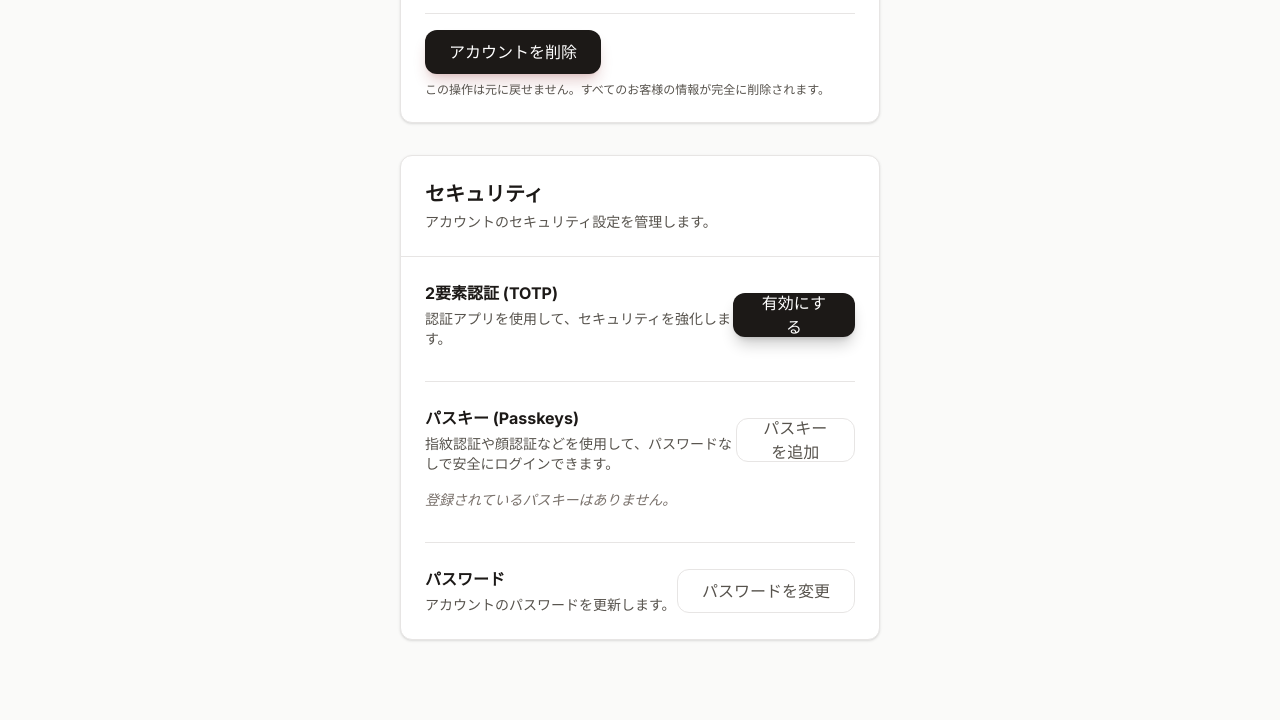
Scenario: MyPage › handles password change
(page scrolled)
Click the button "パスワードを変更": [766, 591] box [677, 569, 855, 613]
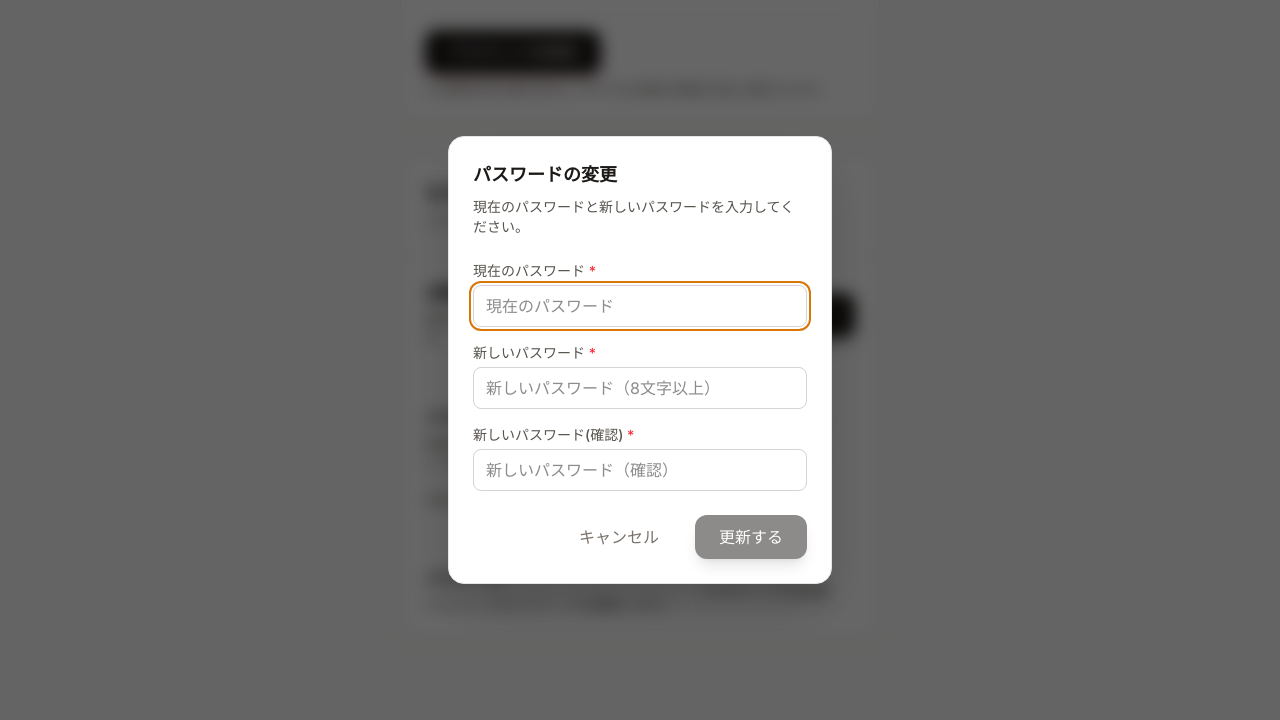
In the password field labelled "現在のパスワード *": [640, 306] box [473, 285, 807, 327], type "old-pass"
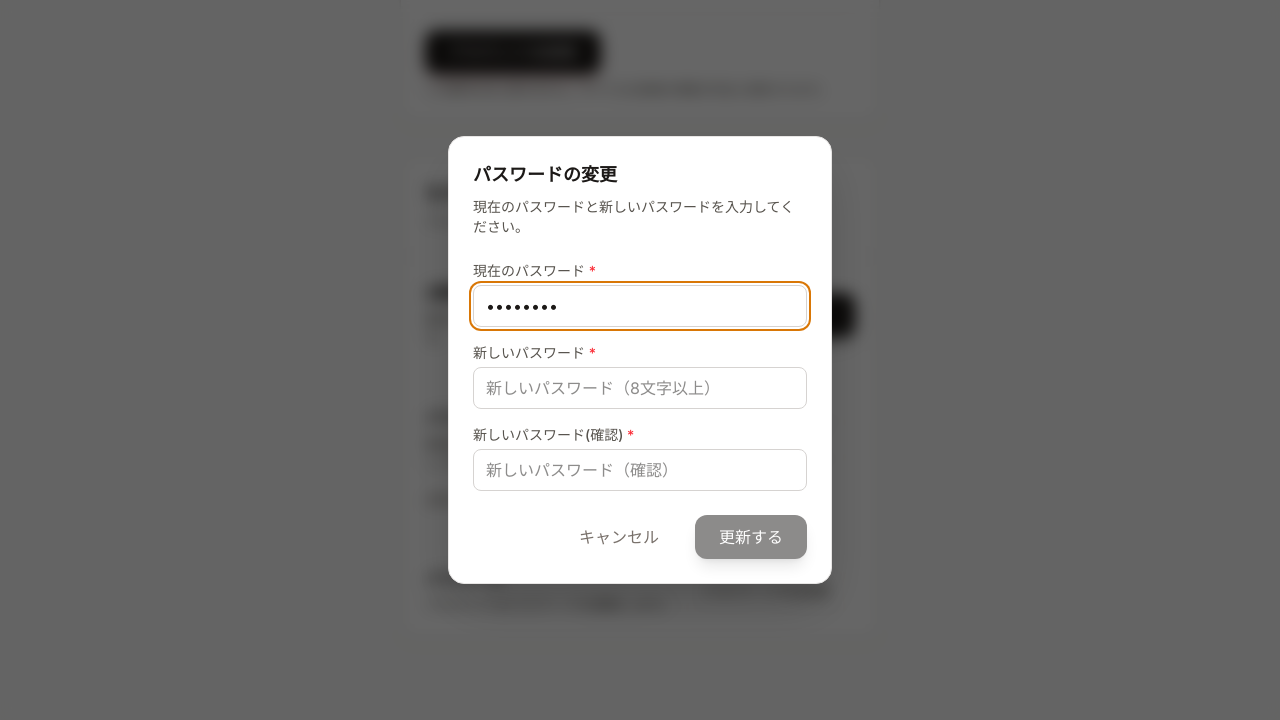
In the password field labelled "新しいパスワード *": [640, 388] box [473, 367, 807, 409], type "new-password"
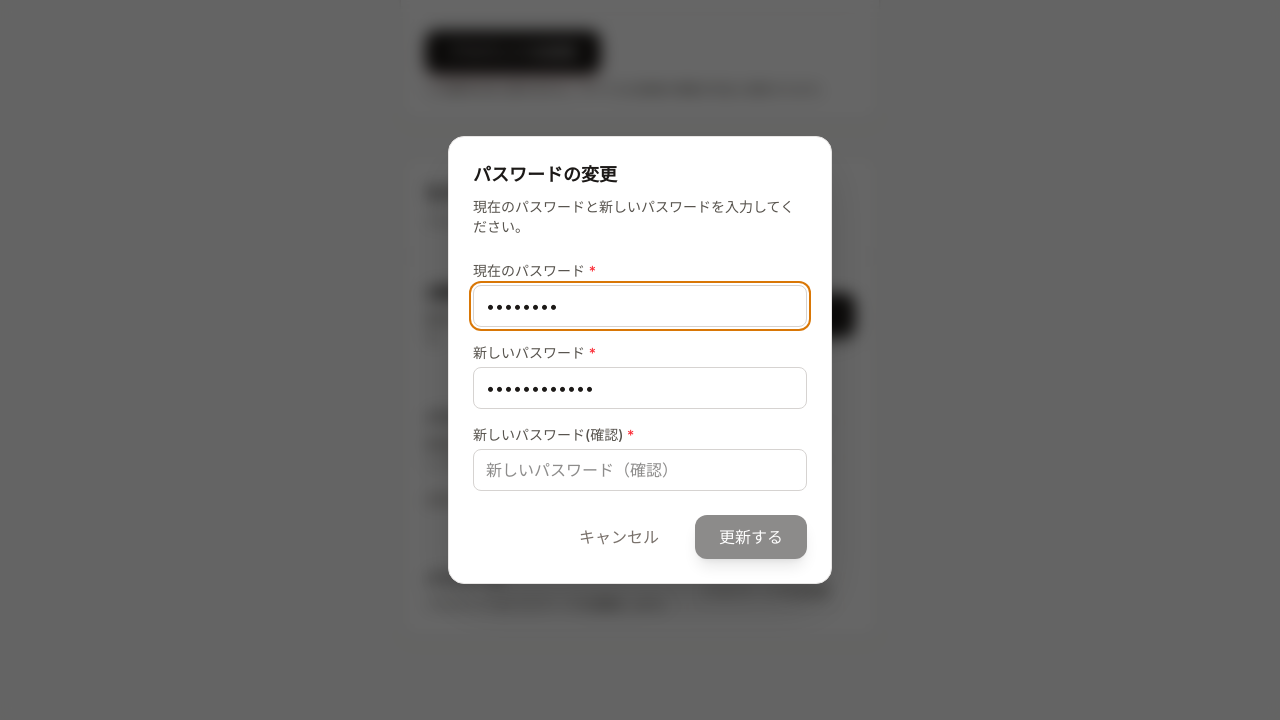
In the password field labelled "新しいパスワード(確認) *": [640, 470] box [473, 449, 807, 491], type "new-password"
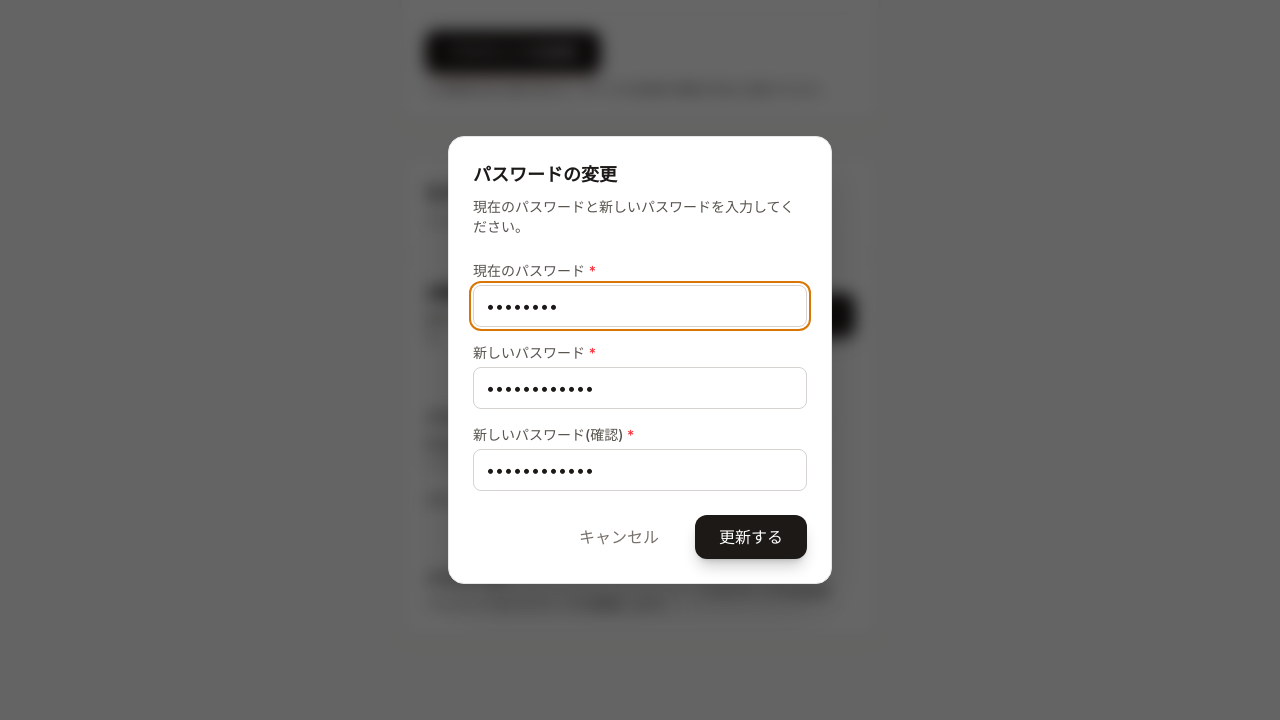
Click the button "更新する": [751, 537] box [695, 515, 807, 559]
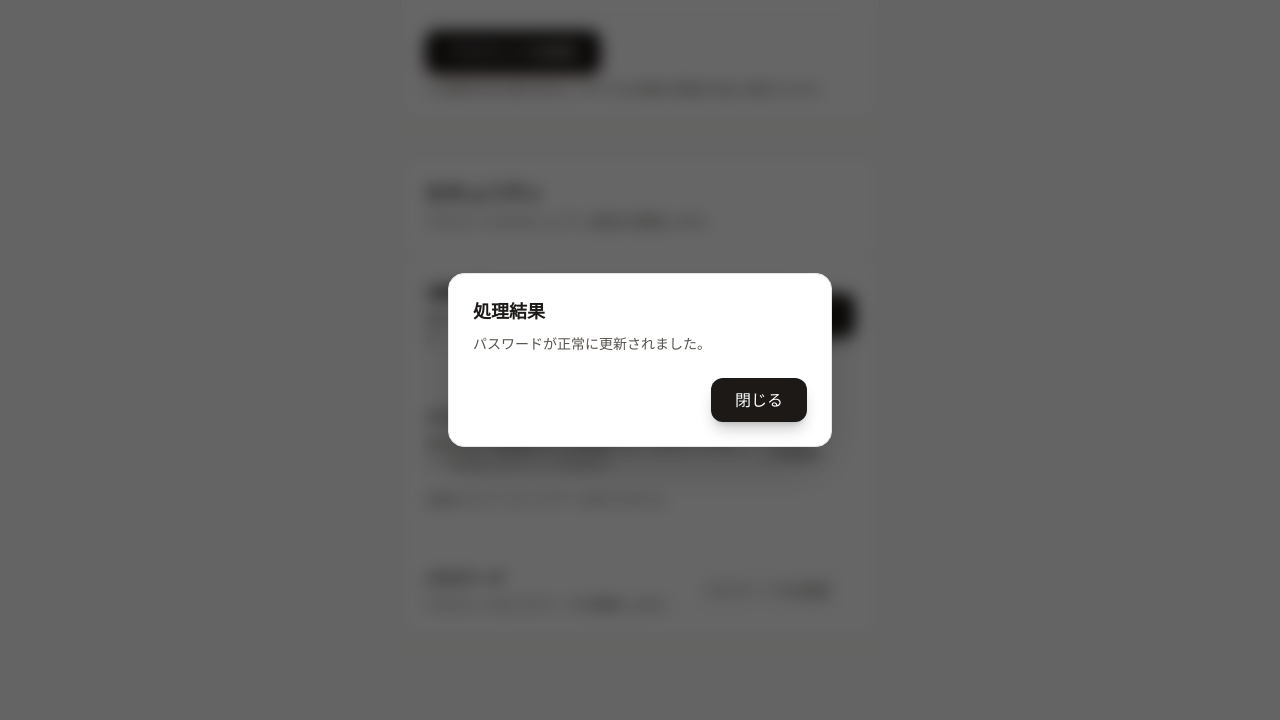
Expected: the text "パスワードが正常に更新されました。" is shown, [473, 335, 711, 352]
